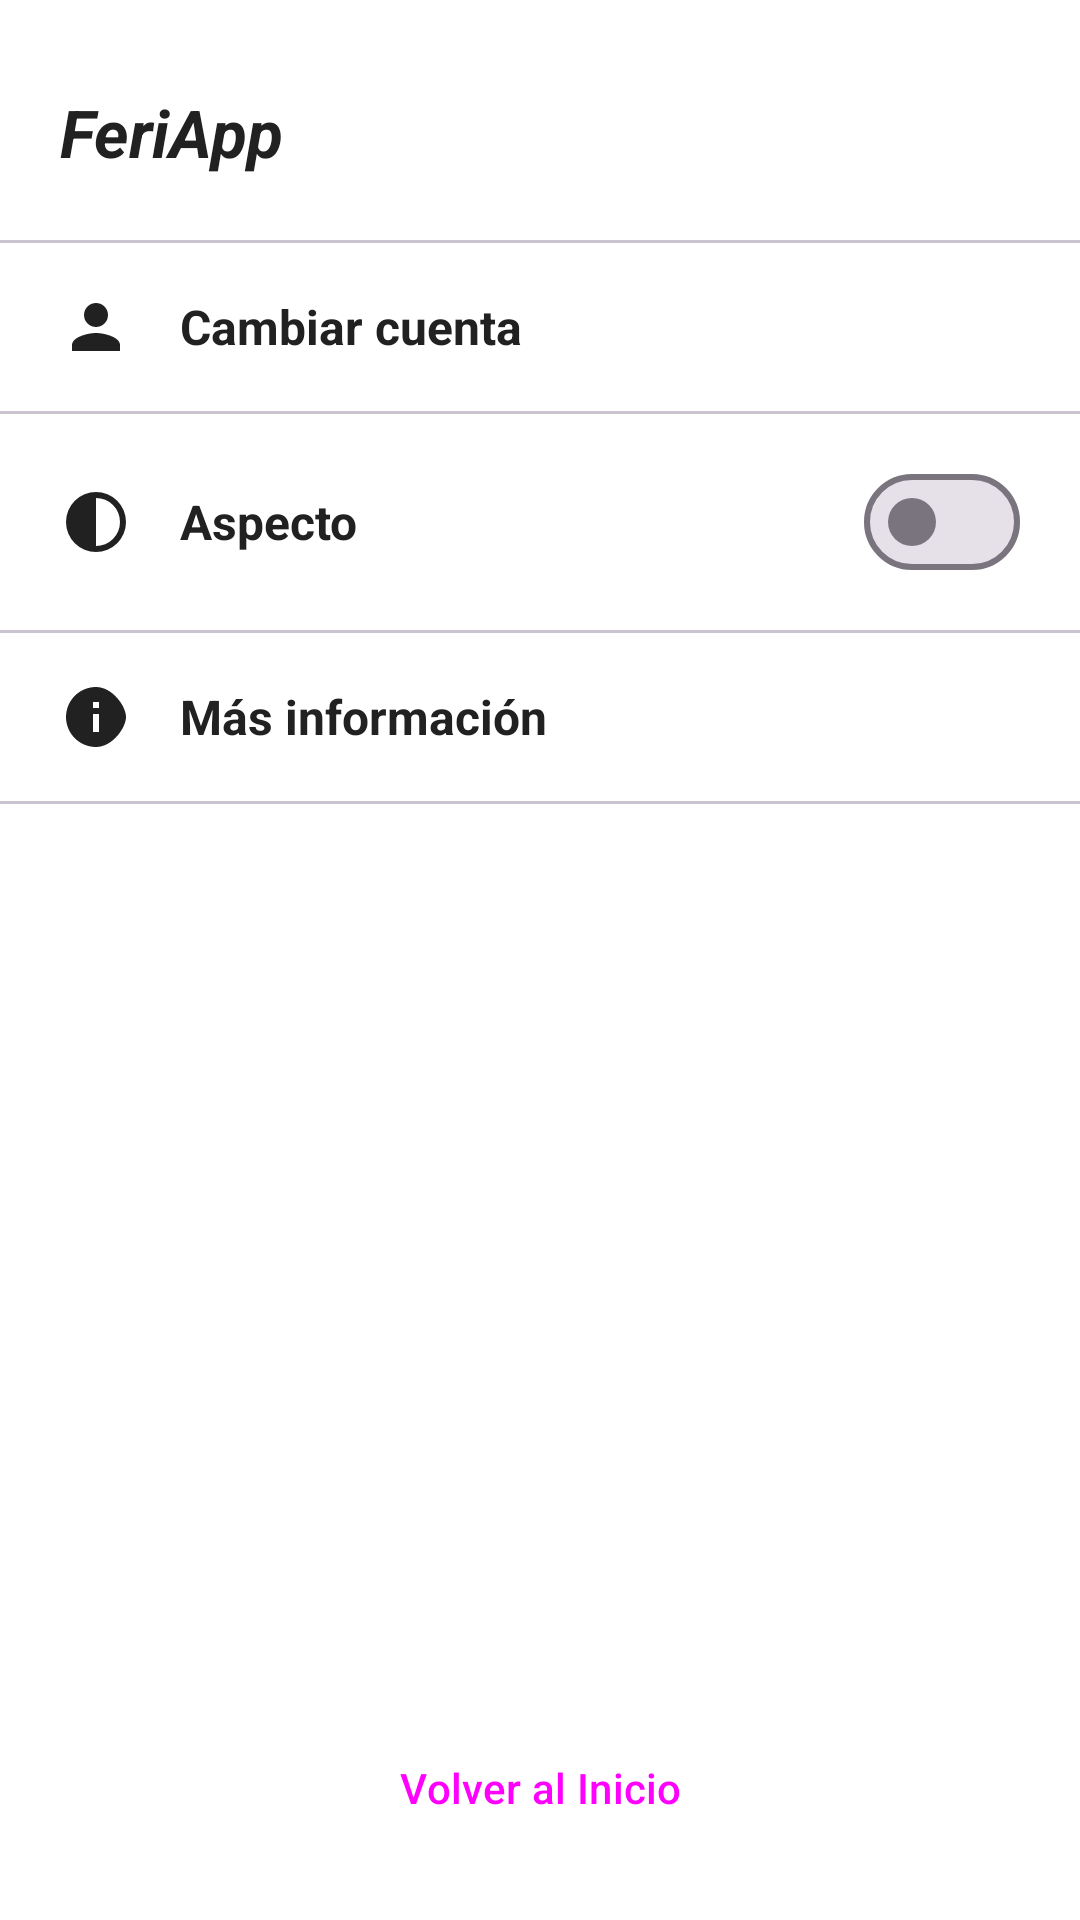

Icons on this 1080px×1920px Android screen, each with its box as (x1, y1, x2, y2):
Modo oscuro: (66, 492, 126, 552)
Ícono de usuario: (72, 303, 120, 351)
